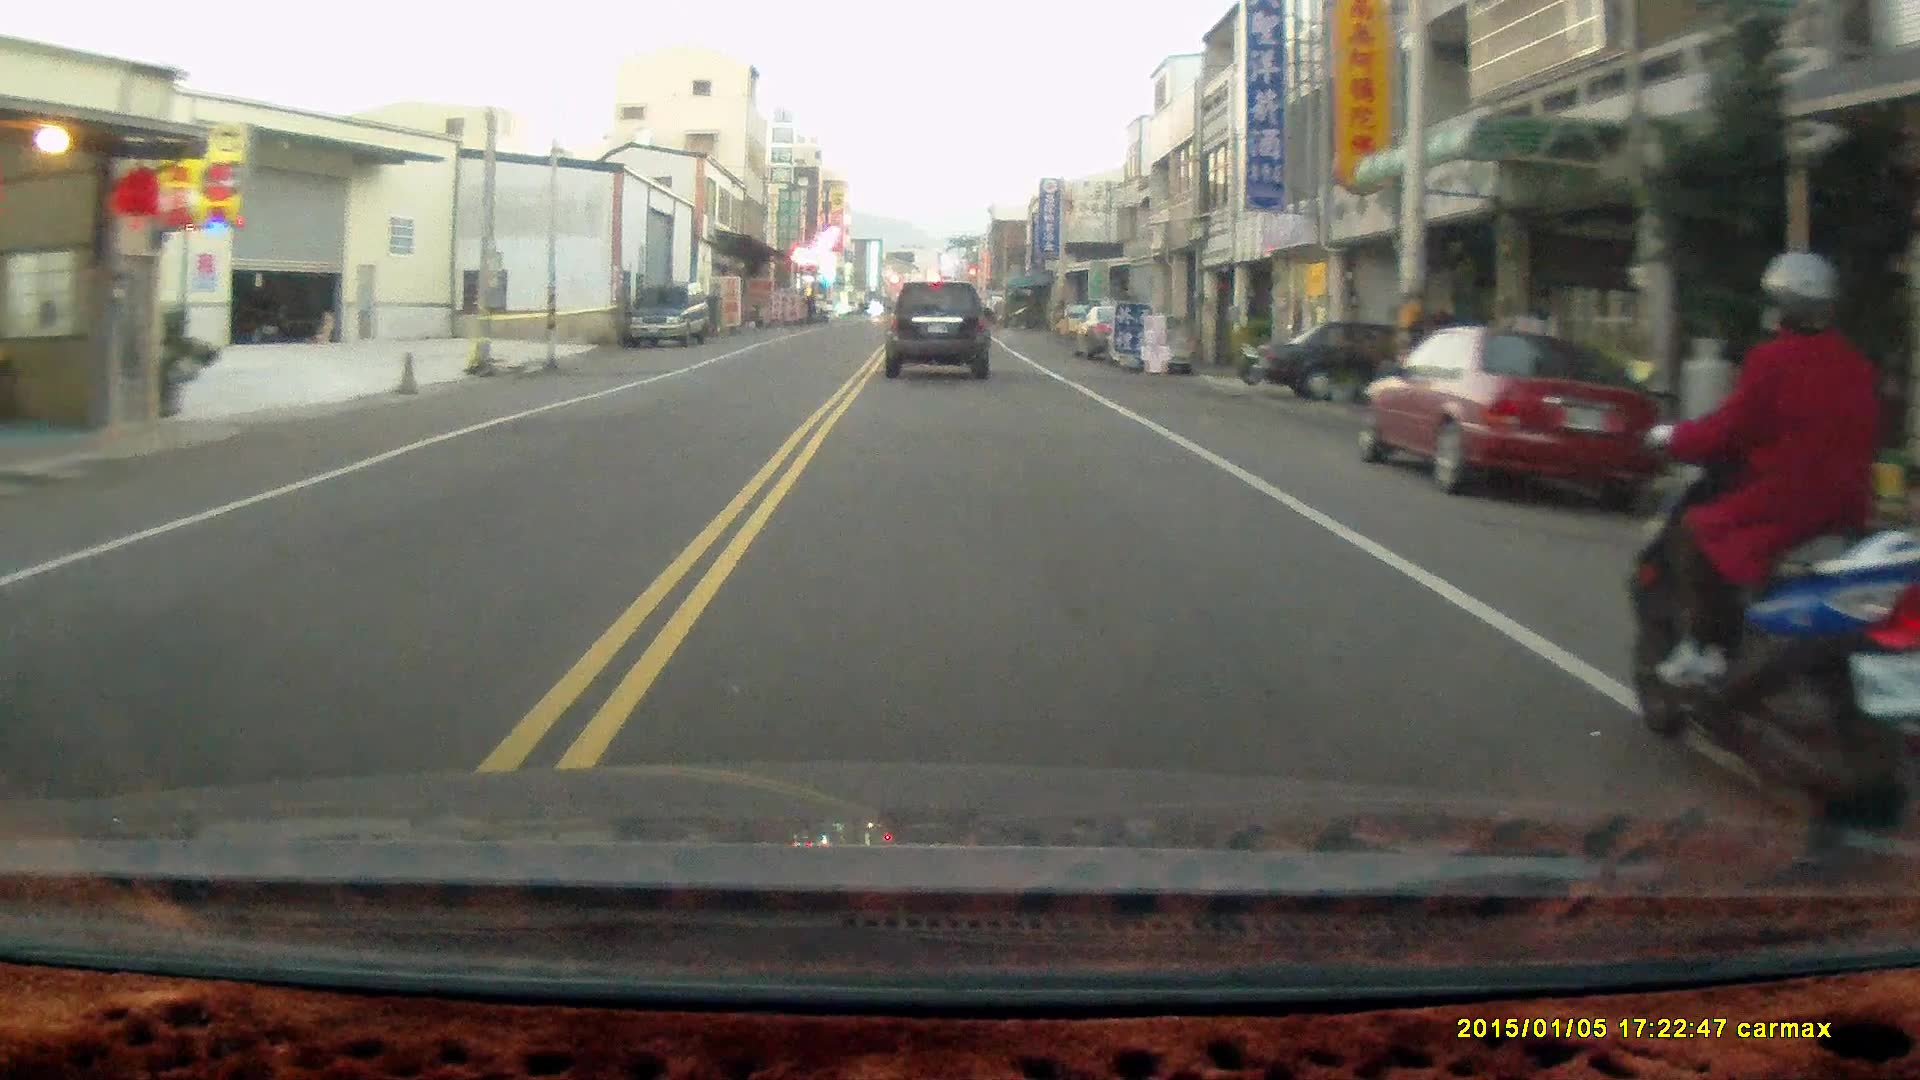rider: (1627, 249, 1913, 834)
vehicle: (1363, 321, 1690, 511), (1244, 313, 1477, 401), (885, 280, 994, 383), (618, 284, 717, 347)
